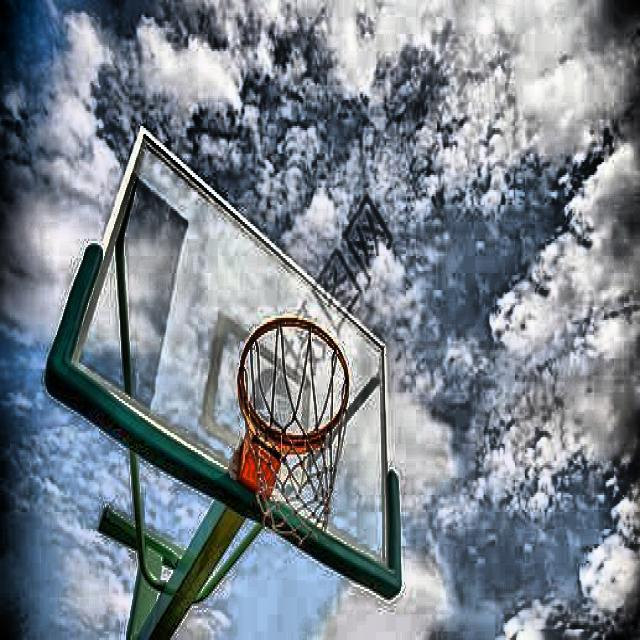rim: (238, 317, 350, 543)
